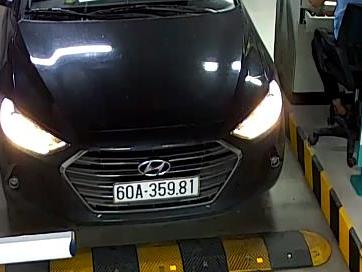number: (114, 178, 199, 203)
